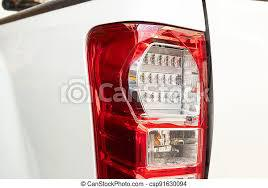Taillight-Damage: (82, 18, 209, 177)
